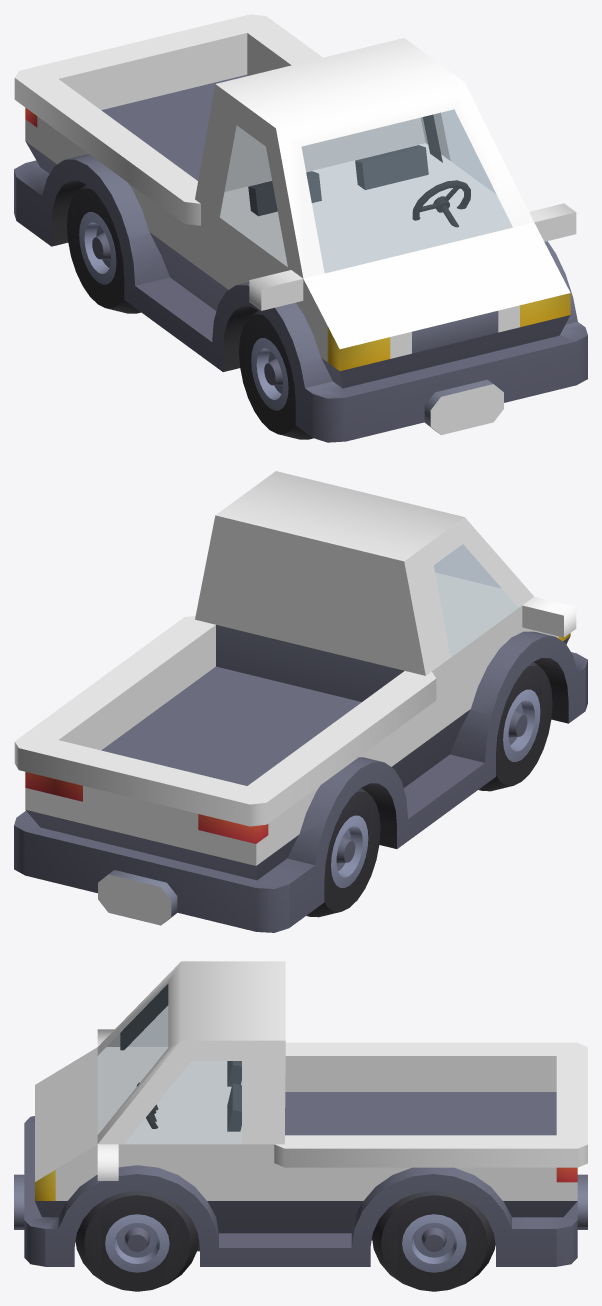
Rendered from flatbed.glb.
3 views of the same model, one above another, from view 1: azimuth 30°, elevation 25°; view 2: azimuth 150°, elevation 25°; view 3: azimuth 270°, elevation 25° (orthographic). The views are drawn at different scales.
Parts seen in each view (by area): view 1: paint, body, glass, door-front-right-paint, wheel-back-right, wheel-front-right, door-front-right-glass, interior, door-front-left-glass, steering-wheel, door-front-right-panel; view 2: paint, body, door-front-right-paint, wheel-front-right, door-front-right-glass, wheel-back-right, door-front-right-panel, glass; view 3: paint, body, door-front-left-paint, wheel-front-left, wheel-back-left, door-front-left-glass, glass, door-front-left-panel, door-front-right-trim, interior, door-front-right-glass.
Part boxes in pixels (<box>): paint: <box>14,14,576,435</box>; body: <box>14,74,587,442</box>; glass: <box>302,109,512,272</box>; door-front-right-paint: <box>207,116,295,289</box>; wheel-back-right: <box>67,184,140,313</box>; wheel-front-right: <box>239,310,313,439</box>; door-front-right-glass: <box>220,126,287,266</box>; interior: <box>248,145,428,216</box>; door-front-left-glass: <box>441,110,495,193</box>; steering-wheel: <box>412,180,470,227</box>; door-front-right-panel: <box>207,274,269,346</box>; paint: <box>14,471,576,925</box>; body: <box>14,625,587,932</box>; door-front-right-paint: <box>421,533,520,732</box>; wheel-front-right: <box>478,662,552,791</box>; door-front-right-glass: <box>434,544,518,656</box>; wheel-back-right: <box>306,787,380,917</box>; door-front-right-panel: <box>424,638,541,772</box>; glass: <box>434,544,500,587</box>; paint: <box>35,961,587,1200</box>; body: <box>14,1092,587,1266</box>; door-front-left-paint: <box>120,1061,264,1200</box>; wheel-front-left: <box>75,1191,198,1291</box>; wheel-back-left: <box>372,1191,495,1291</box>; door-front-left-glass: <box>125,1061,241,1143</box>; glass: <box>98,984,167,1133</box>; door-front-left-panel: <box>120,1174,264,1247</box>; door-front-right-trim: <box>120,984,168,1050</box>; interior: <box>197,1061,241,1251</box>; door-front-right-glass: <box>128,1006,167,1046</box>.
Bounding box in the file's own units: 2.47 × 2.14 × 4.53.
Materials: 4 (1 with a texture image).
